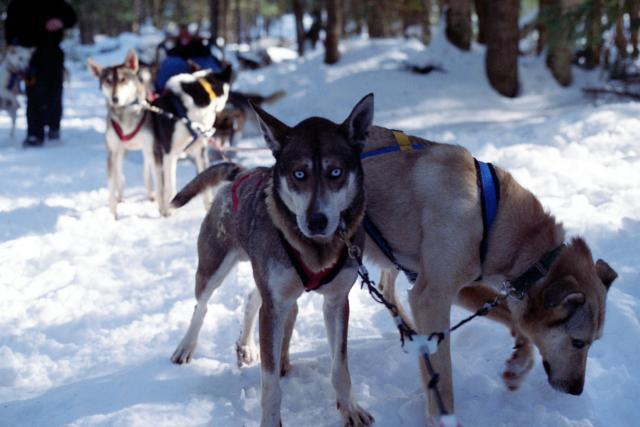dog: (168, 90, 376, 425), (85, 45, 169, 219)
